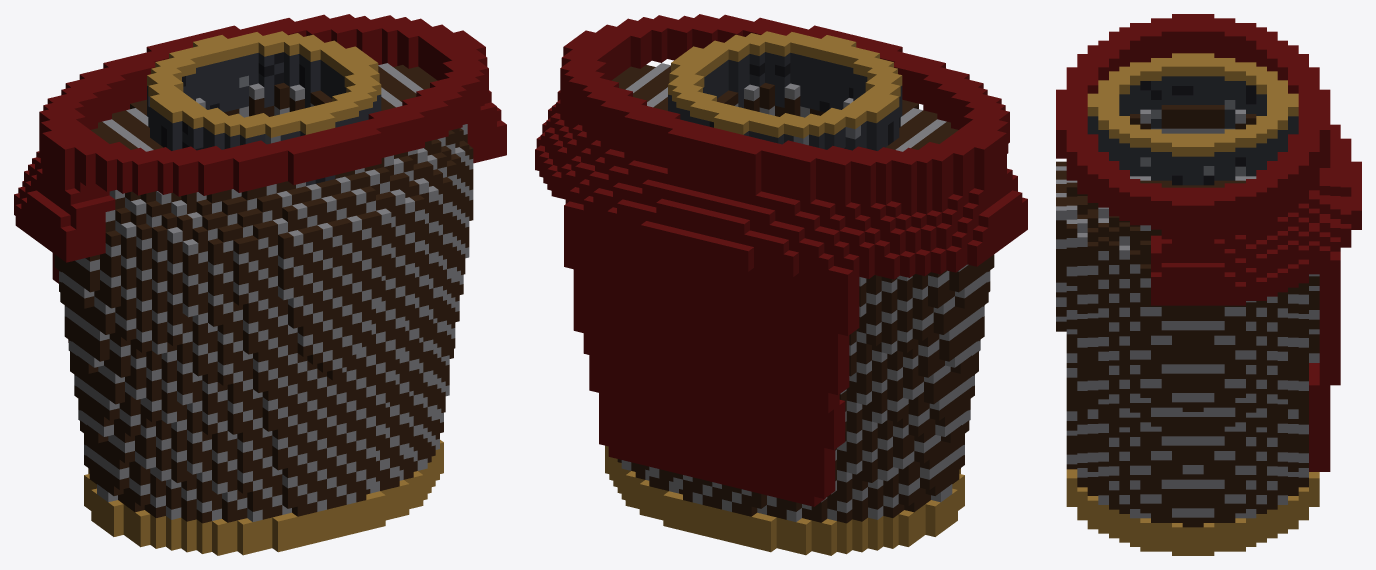
Rendered from leather_rare_chest.glb.
The picture shows the model from 3 angles, left to right: view 1: azimuth 30°, elevation 25°; view 2: azimuth 150°, elevation 25°; view 3: azimuth 270°, elevation 25°; orthographic projection. The views are drawn at different scales.
Visible parts, largest first — view 1: leather_rare_chest; view 2: leather_rare_chest; view 3: leather_rare_chest.
Part boxes in pixels (bbox=[...]): leather_rare_chest: bbox=[14, 14, 506, 555]; leather_rare_chest: bbox=[535, 14, 1027, 555]; leather_rare_chest: bbox=[1056, 14, 1361, 555].
Bounding box in the file's own units: 0.54 × 0.48 × 0.348.
